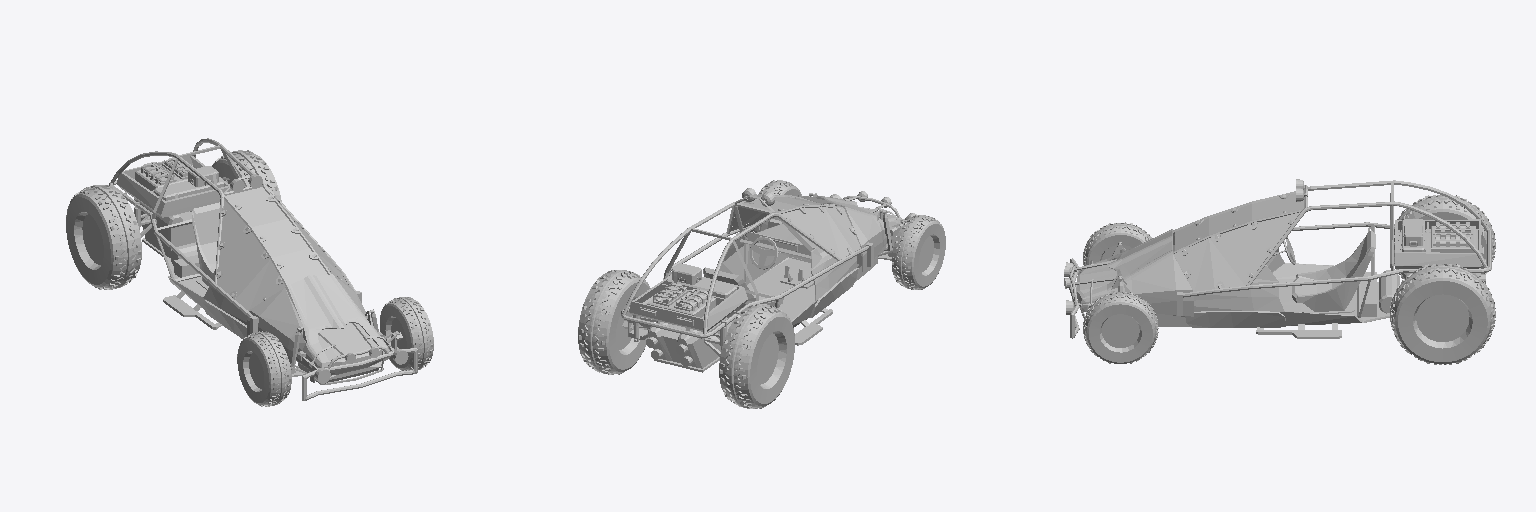
Rendered from Buggy _IV.obj.
3 views of the same model, side by side, from view 1: azimuth 30°, elevation 25°; view 2: azimuth 150°, elevation 25°; view 3: azimuth 270°, elevation 25° (orthographic).
Size of the model in its own units: 3.74 by 2.98 by 8.13.